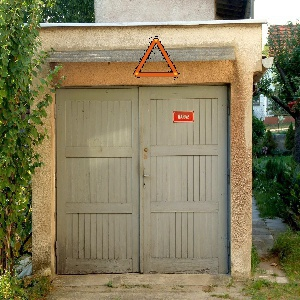triangle: (133, 32, 182, 80)
